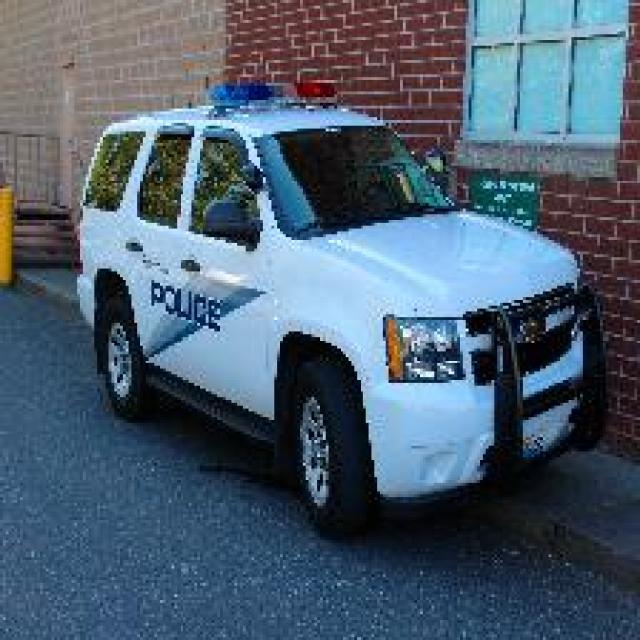Police-car: (69, 74, 608, 534)
